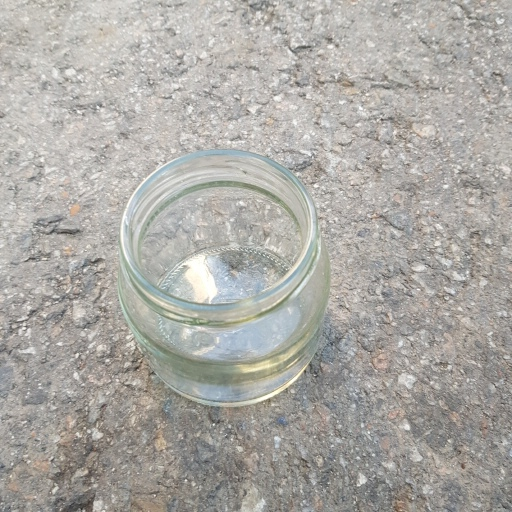Glass_5: (112, 144, 331, 408)
